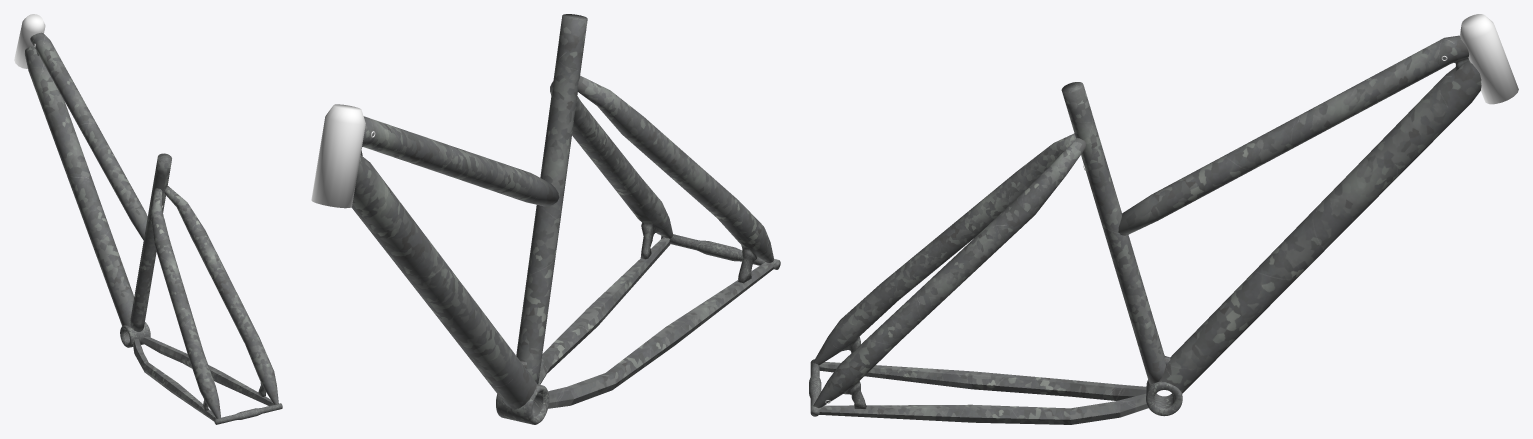
Rendered from Quadro deslocado.glb.
The picture shows the model from 3 angles, left to right: view 1: azimuth 30°, elevation 25°; view 2: azimuth 150°, elevation 25°; view 3: azimuth 270°, elevation 25°; orthographic projection. The views are drawn at different scales.
Visible parts, largest first — view 1: Quadro deslocado; view 2: Quadro deslocado; view 3: Quadro deslocado.
Boxes of the visible parts, x1,y1,x2,y2 form: Quadro deslocado: (14, 14, 282, 424); Quadro deslocado: (311, 14, 780, 424); Quadro deslocado: (809, 14, 1518, 424).
Bounding box in the file's own units: 0.1997 × 0.6671 × 1.09.
3 materials, 1 textured.
